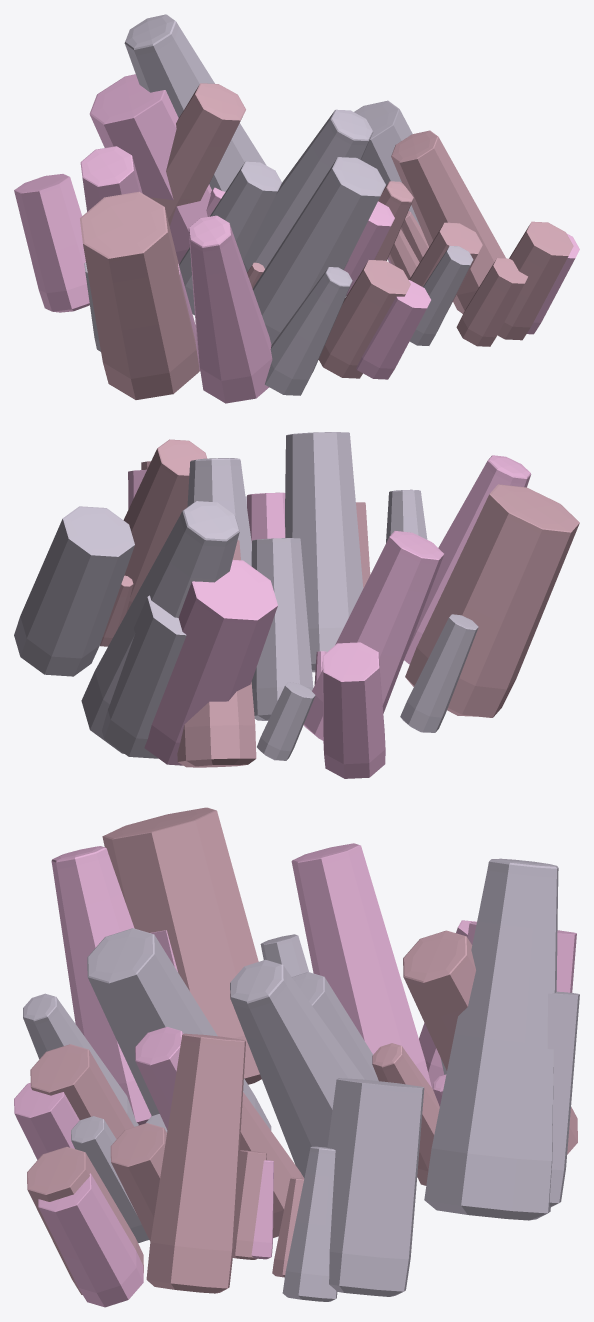
File: Obj_Mineral_2.fbx
The picture shows the model from 3 angles, top to bottom: view 1: azimuth 30°, elevation 25°; view 2: azimuth 150°, elevation 25°; view 3: azimuth 270°, elevation 25°; orthographic projection. The views are drawn at different scales.
Visible parts, largest first — view 1: Cluster_2; view 2: Cluster_2; view 3: Cluster_2.
Boxes of the visible parts, bbox=[...] form: Cluster_2: bbox=[14, 14, 579, 403]; Cluster_2: bbox=[14, 432, 579, 778]; Cluster_2: bbox=[14, 807, 579, 1307].
Bounding box in the file's own units: 852 × 447 × 707.
